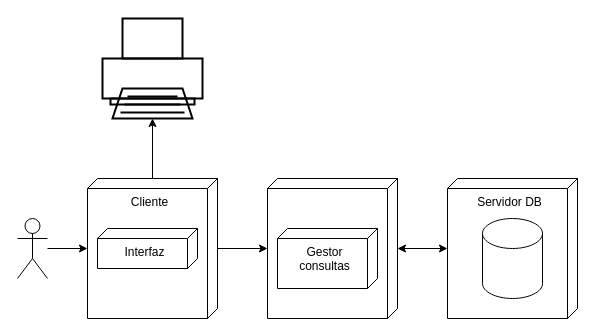
The diagram is 595 pixels wide and 336 high, and some of its shapes have lost their labels. Here are the shapes that lost their labels. From the top down, the centre of each, then its label:
At (x=32, y=248): "Actor".
At (x=332, y=248): "Servidor de aplicación".
